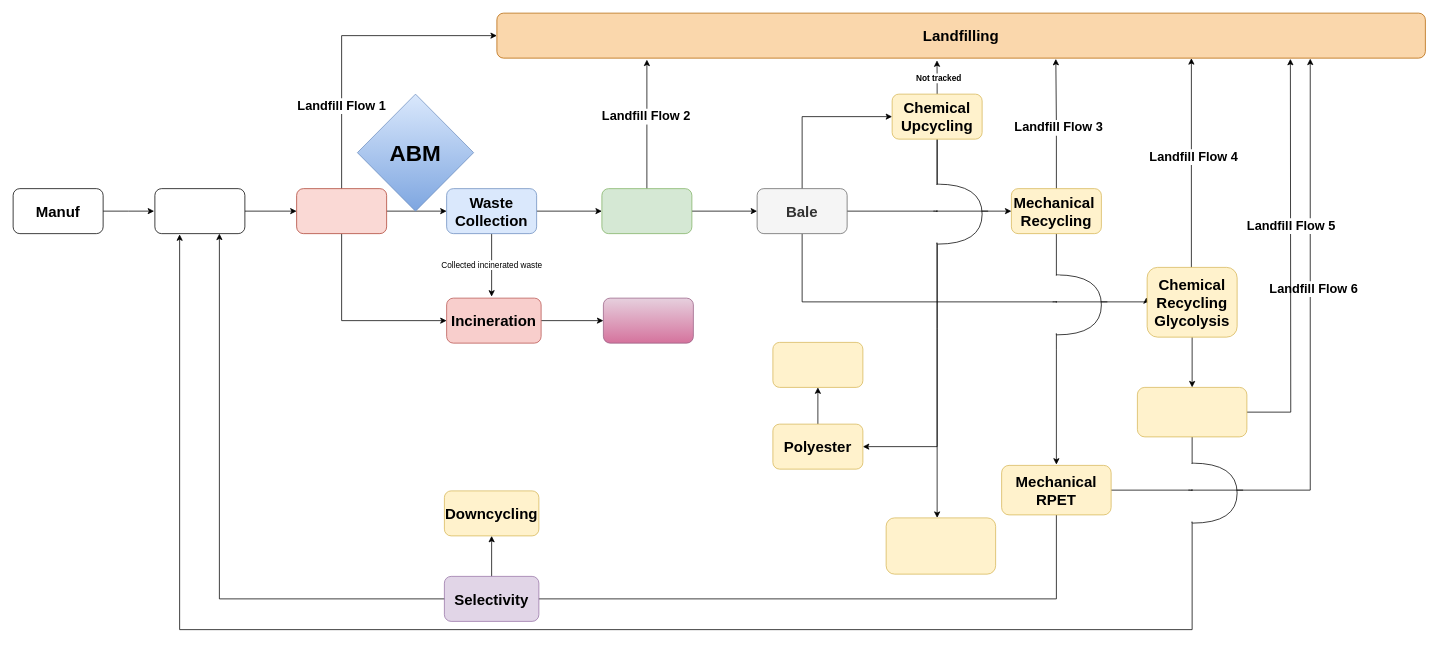
Image size: 1439x649. Some labels were removed from this diagram. Each missing label, with the box of its shape:
Chemical RPET: (1137, 387, 1247, 437)
Disposal: (296, 188, 387, 234)
Electricity: (603, 297, 693, 343)
MRF: (601, 188, 692, 234)
Plastic Pyrolysis Oil: (885, 517, 996, 574)
Use: (154, 188, 245, 234)
Used in FRP manuf.: (772, 342, 863, 387)
